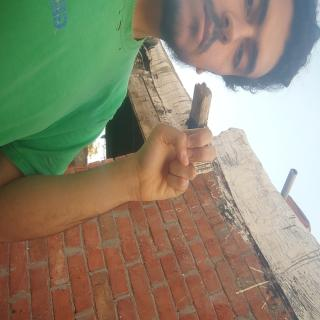QAAF: (89, 137, 154, 255)
